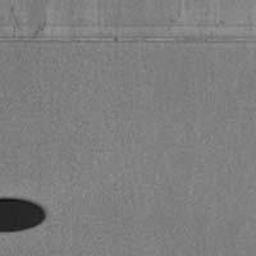Punching: (0, 197, 46, 233)
